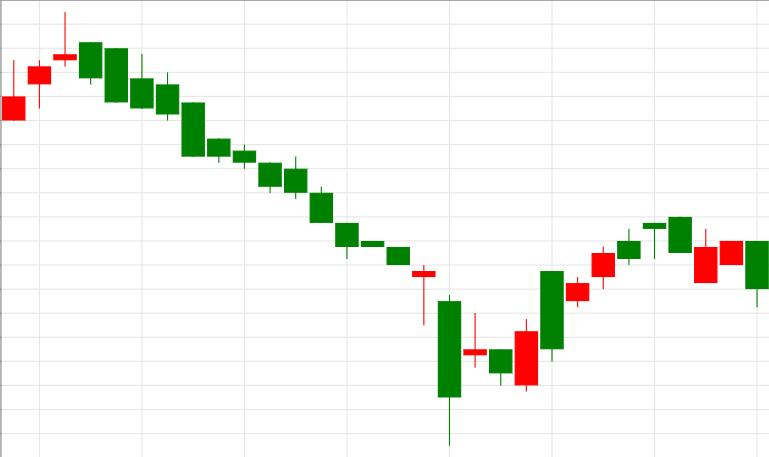bullish_engulfing_rise: (79, 41, 538, 446)
